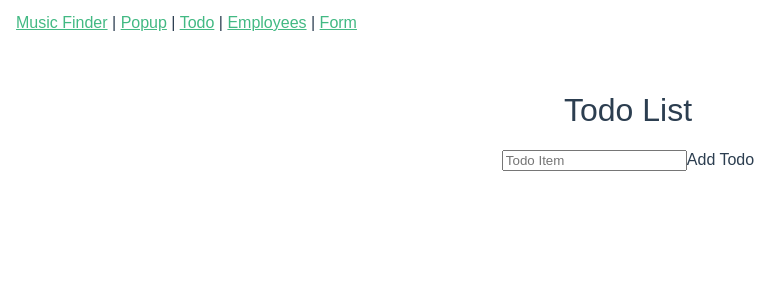
Test: adds two todo items
Type "todo A" into the field with id "add-todo". click: (595,161)
box: [502,150,687,171]
Then press Enter
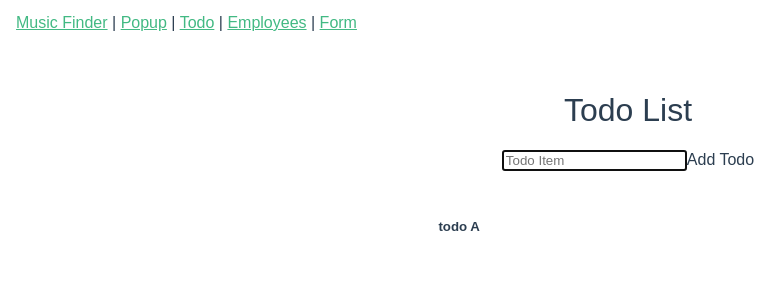
expect the heading "todo A" is shown: met, box [438,219,480,234]
Type "todo B" into the field with id "add-todo". click: (595,161)
box: [502,150,687,171]
Then press Enter
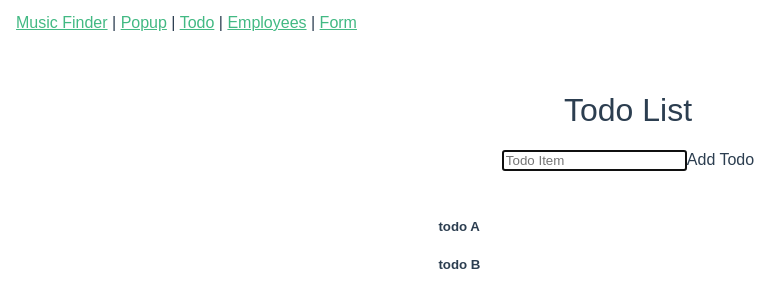
expect the heading "todo B" is shown: met, box [438,257,480,272]
